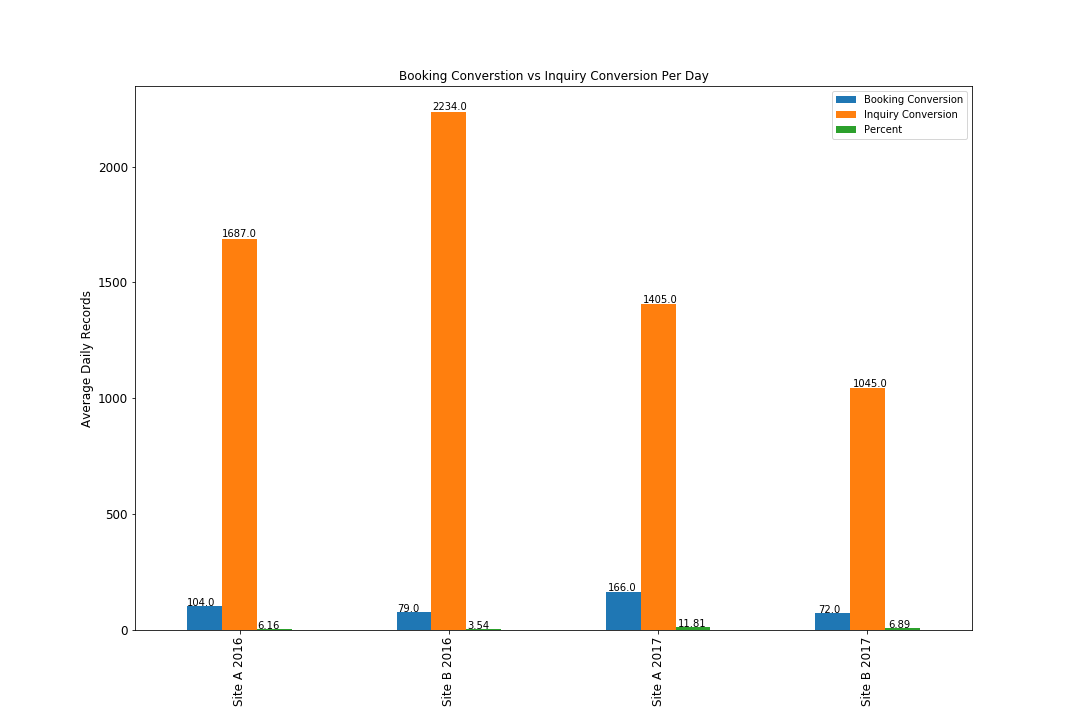

The page's visual inventory and layout, read from the dashboard file:
{"tool":"tableau","page":{"name":"BarChart","canvas":[1000,800],"ordinal":1},"visuals":[{"type":"filter","title":"All-Viz-1","param":"[federated.0fqd9971pobdc41fchzsx0ctk5mb].[none:Site:nk]","box":[8,8,143,75]},{"type":"filter","title":"All-Viz-1","param":"[federated.0fqd9971pobdc41fchzsx0ctk5mb].[none:Year of Date Id:nk]","box":[151,8,182,75]},{"type":"filter","title":"All-Viz-1","param":"[federated.0fqd9971pobdc41fchzsx0ctk5mb].[none:Measure Names:nk]","box":[333,8,353,75]},{"type":"filter","title":"All-Viz-1","param":"[federated.0fqd9971pobdc41fchzsx0ctk5mb].[none:Supplier Type:nk]","box":[686,8,146,75]},{"type":"filter","title":"All-Viz-1","param":"[federated.0fqd9971pobdc41fchzsx0ctk5mb].[none:Person Type:nk]","box":[832,8,160,75]},{"type":"worksheet","title":"All-Viz-1","mark":"Automatic","rows":["Measure Names","Person Type","Site","Supplier Type"],"cols":["Measure Values"],"box":[8,83,984,709]}]}

Visuals, with their boxes on the page's 1000x800 design canvas (x1, y1, x2, y2). These are canvas units, not pixel positions in the 1080x720 screenshot, which may show the page scaled, cropped or inside an application window:
"All-Viz-1" filter: box=[8, 8, 151, 83]
"All-Viz-1" filter: box=[151, 8, 333, 83]
"All-Viz-1" filter: box=[333, 8, 686, 83]
"All-Viz-1" filter: box=[686, 8, 832, 83]
"All-Viz-1" filter: box=[832, 8, 992, 83]
"All-Viz-1" worksheet: box=[8, 83, 992, 792]
